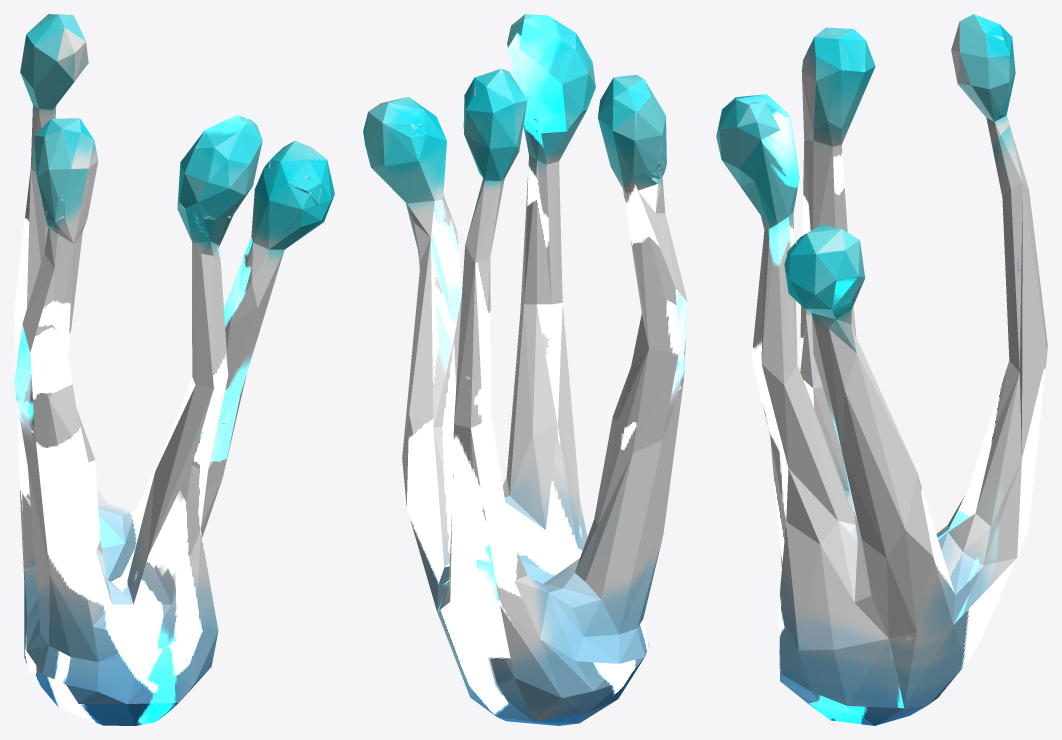
The model's file is MultiChampis2.fbx.
The picture shows the model from 3 angles, left to right: view 1: azimuth 30°, elevation 25°; view 2: azimuth 150°, elevation 25°; view 3: azimuth 270°, elevation 25°; orthographic projection. The views are drawn at different scales.
Parts seen in each view (by area): view 1: MultiChampignons2; view 2: MultiChampignons2; view 3: MultiChampignons2.
Boxes of the visible parts, x1,y1,x2,y2 form: MultiChampignons2: (14, 14, 334, 725); MultiChampignons2: (363, 14, 687, 725); MultiChampignons2: (716, 14, 1047, 725).
Bounding box in the file's own units: 54.45 × 60.93 × 127.
